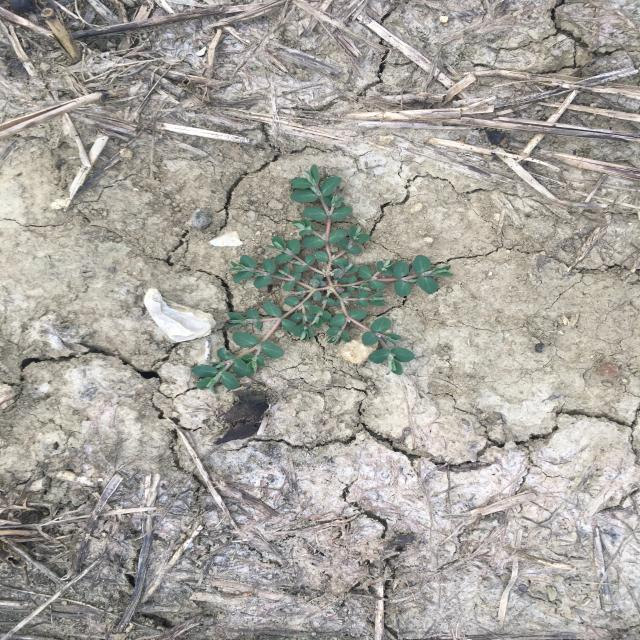SpottedSpurge: (191, 163, 456, 394)
